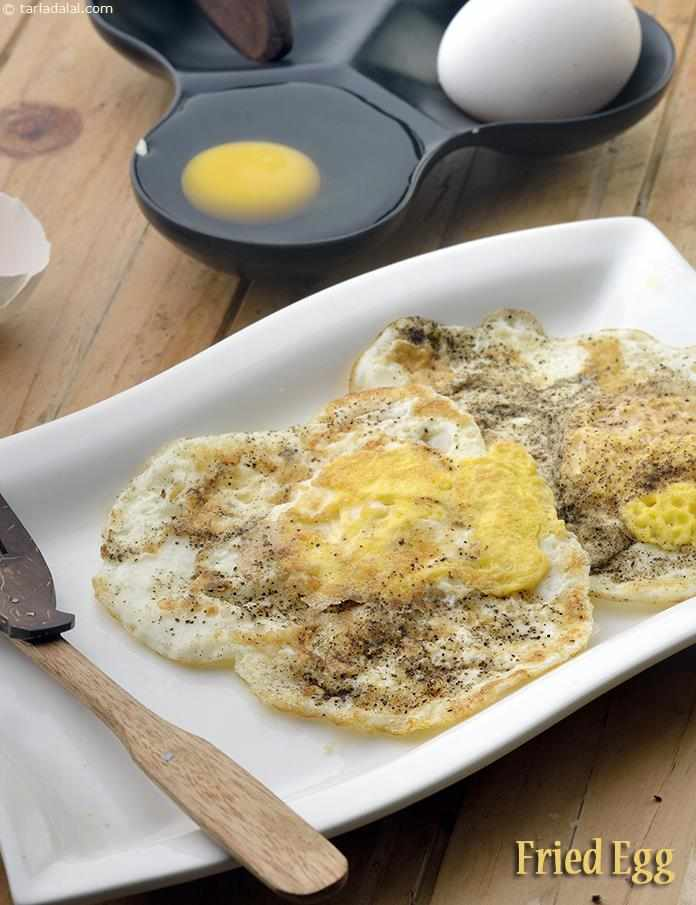fried egg: (124, 450, 540, 712), (444, 324, 695, 586)
